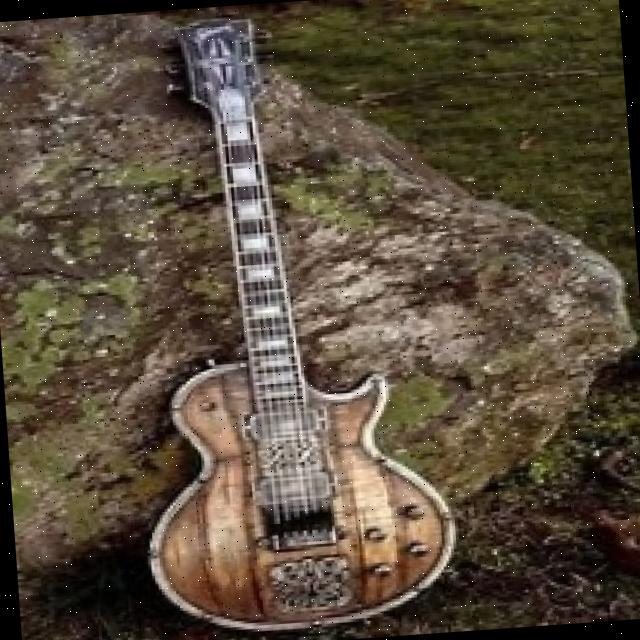guitar: (105, 3, 462, 640)
